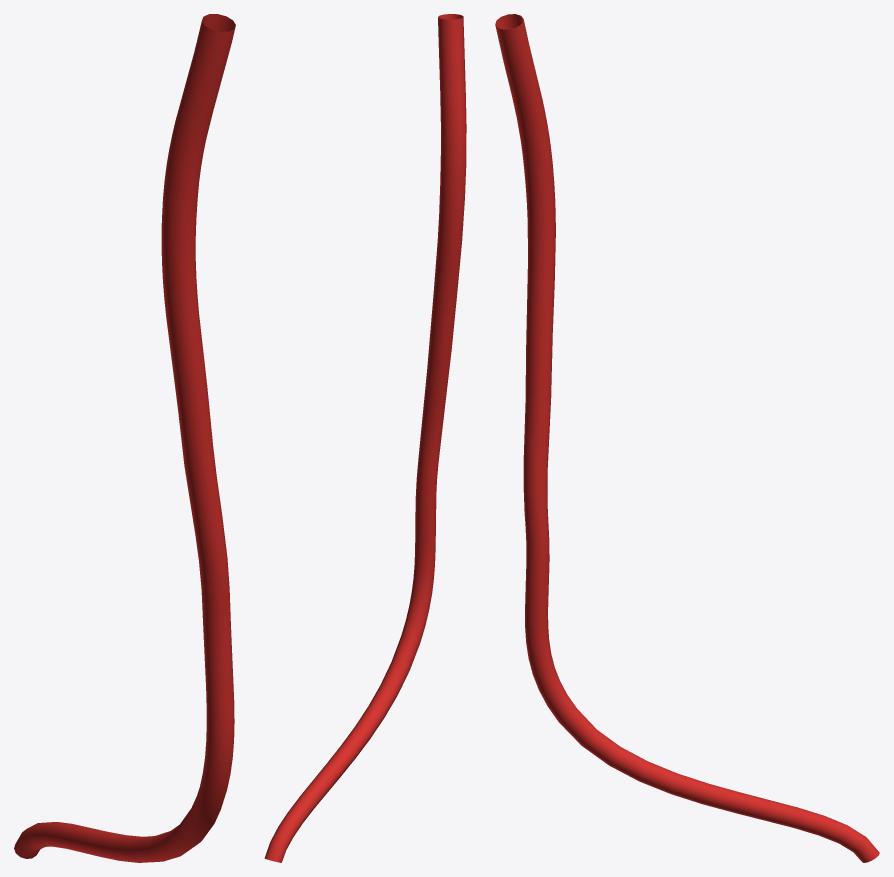
The model's file is circulatorio-inferior-ulnar-collateral-artery-l.glb.
3 views of the same model, side by side, from view 1: azimuth 30°, elevation 25°; view 2: azimuth 150°, elevation 25°; view 3: azimuth 270°, elevation 25° (orthographic). The views are drawn at different scales.
Visible parts, largest first — view 1: Inferior ulnar collateral artery.l; view 2: Inferior ulnar collateral artery.l; view 3: Inferior ulnar collateral artery.l.
Part boxes in pixels (x1,y1,x2,y2): Inferior ulnar collateral artery.l: (14,14,235,862); Inferior ulnar collateral artery.l: (264,14,466,862); Inferior ulnar collateral artery.l: (495,14,879,862).
Bounding box in the file's own units: 0.00469 × 0.0633 × 0.0265.
